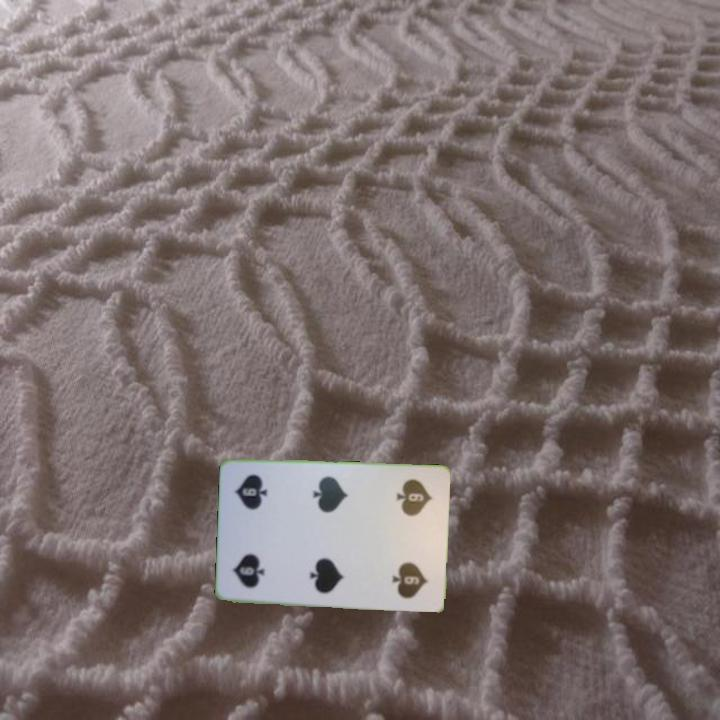s_6.png: (225, 527, 285, 596), (380, 472, 440, 541)
